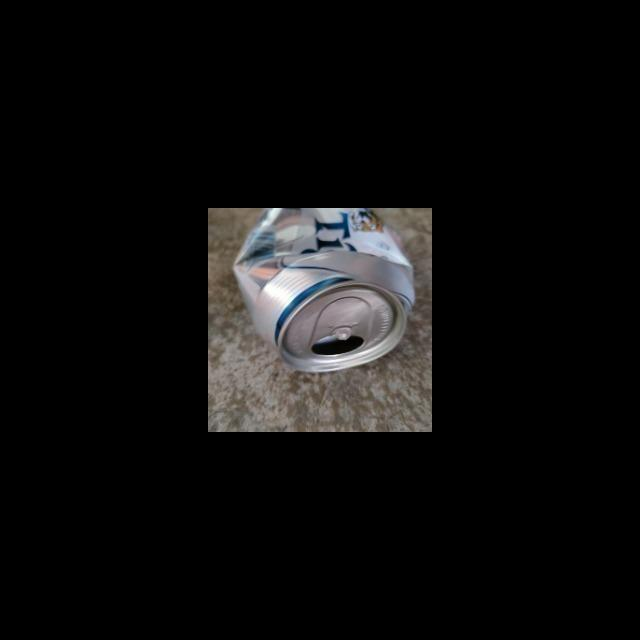metal: (234, 208, 420, 370)
